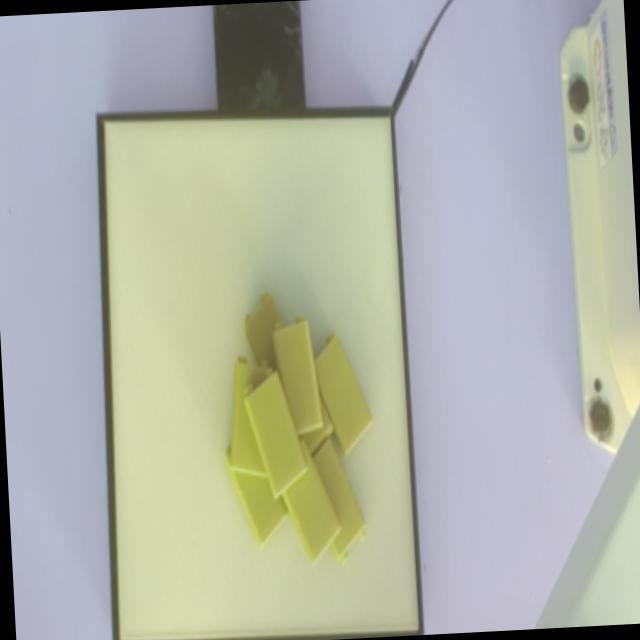bateria: (243, 368, 309, 498)
mesa: (96, 106, 424, 640)
